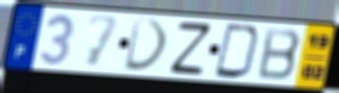3: (38, 12, 77, 67)
7: (85, 13, 119, 71)
B: (256, 26, 304, 82)
D: (212, 21, 263, 81), (122, 16, 171, 73)
Z: (168, 21, 214, 77)
